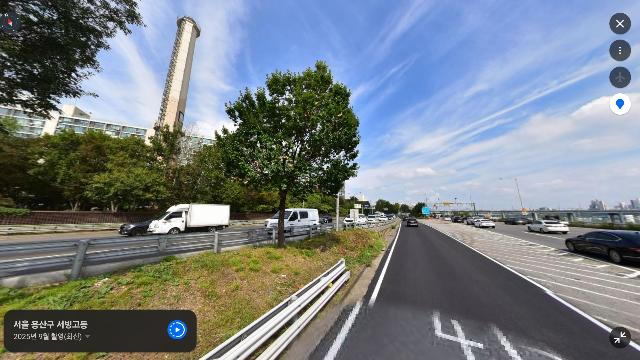other: (214, 59, 362, 250), (0, 0, 147, 122), (47, 128, 112, 212), (0, 131, 60, 213), (99, 134, 159, 213), (149, 123, 191, 212), (180, 145, 220, 212)
